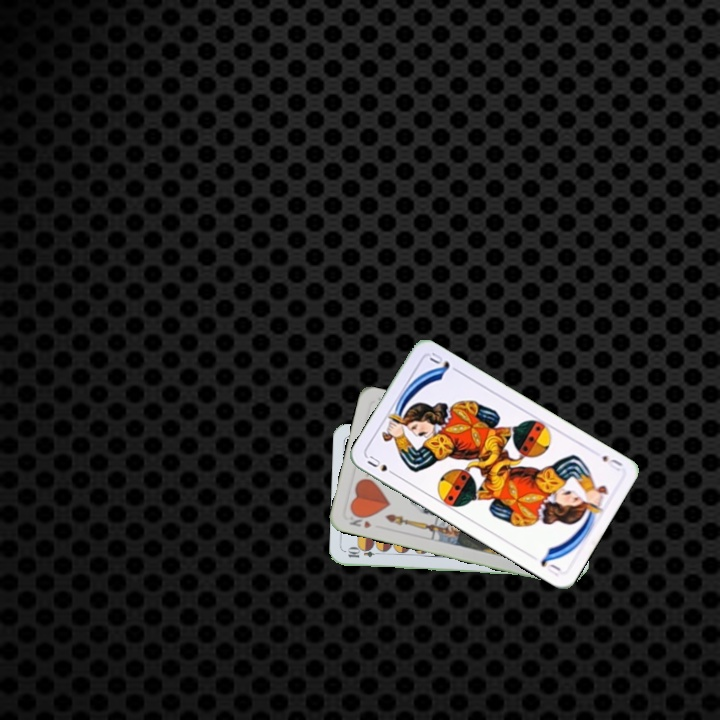E10: (344, 546, 384, 560)
HK: (345, 509, 374, 531)
SU: (363, 451, 400, 479), (598, 451, 625, 473)
